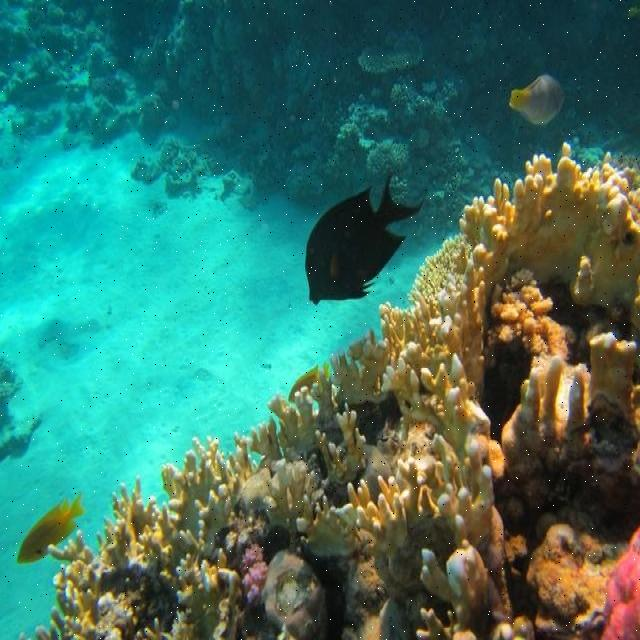fish: (305, 168, 423, 305), (17, 490, 87, 565), (509, 75, 566, 125), (288, 362, 329, 403)
reefs: (33, 144, 639, 639), (0, 0, 639, 218)
